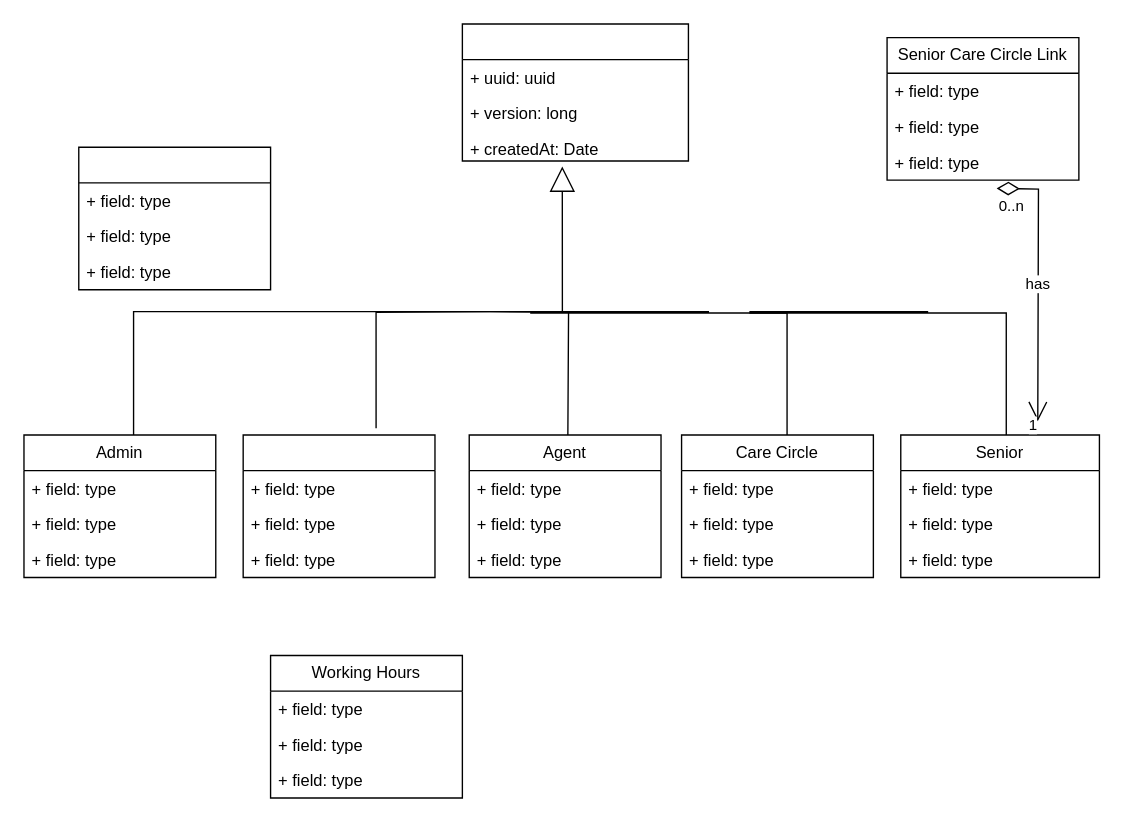
Image size: 1123x826. Some labels were removed from this diagram. The shapes that lost their labels are listed below. From the top down, each one's box as (x1, y1, x2, y2) in pixels, then its label:
(461, 23, 688, 161): User
(242, 434, 435, 577): Care Ambassador
